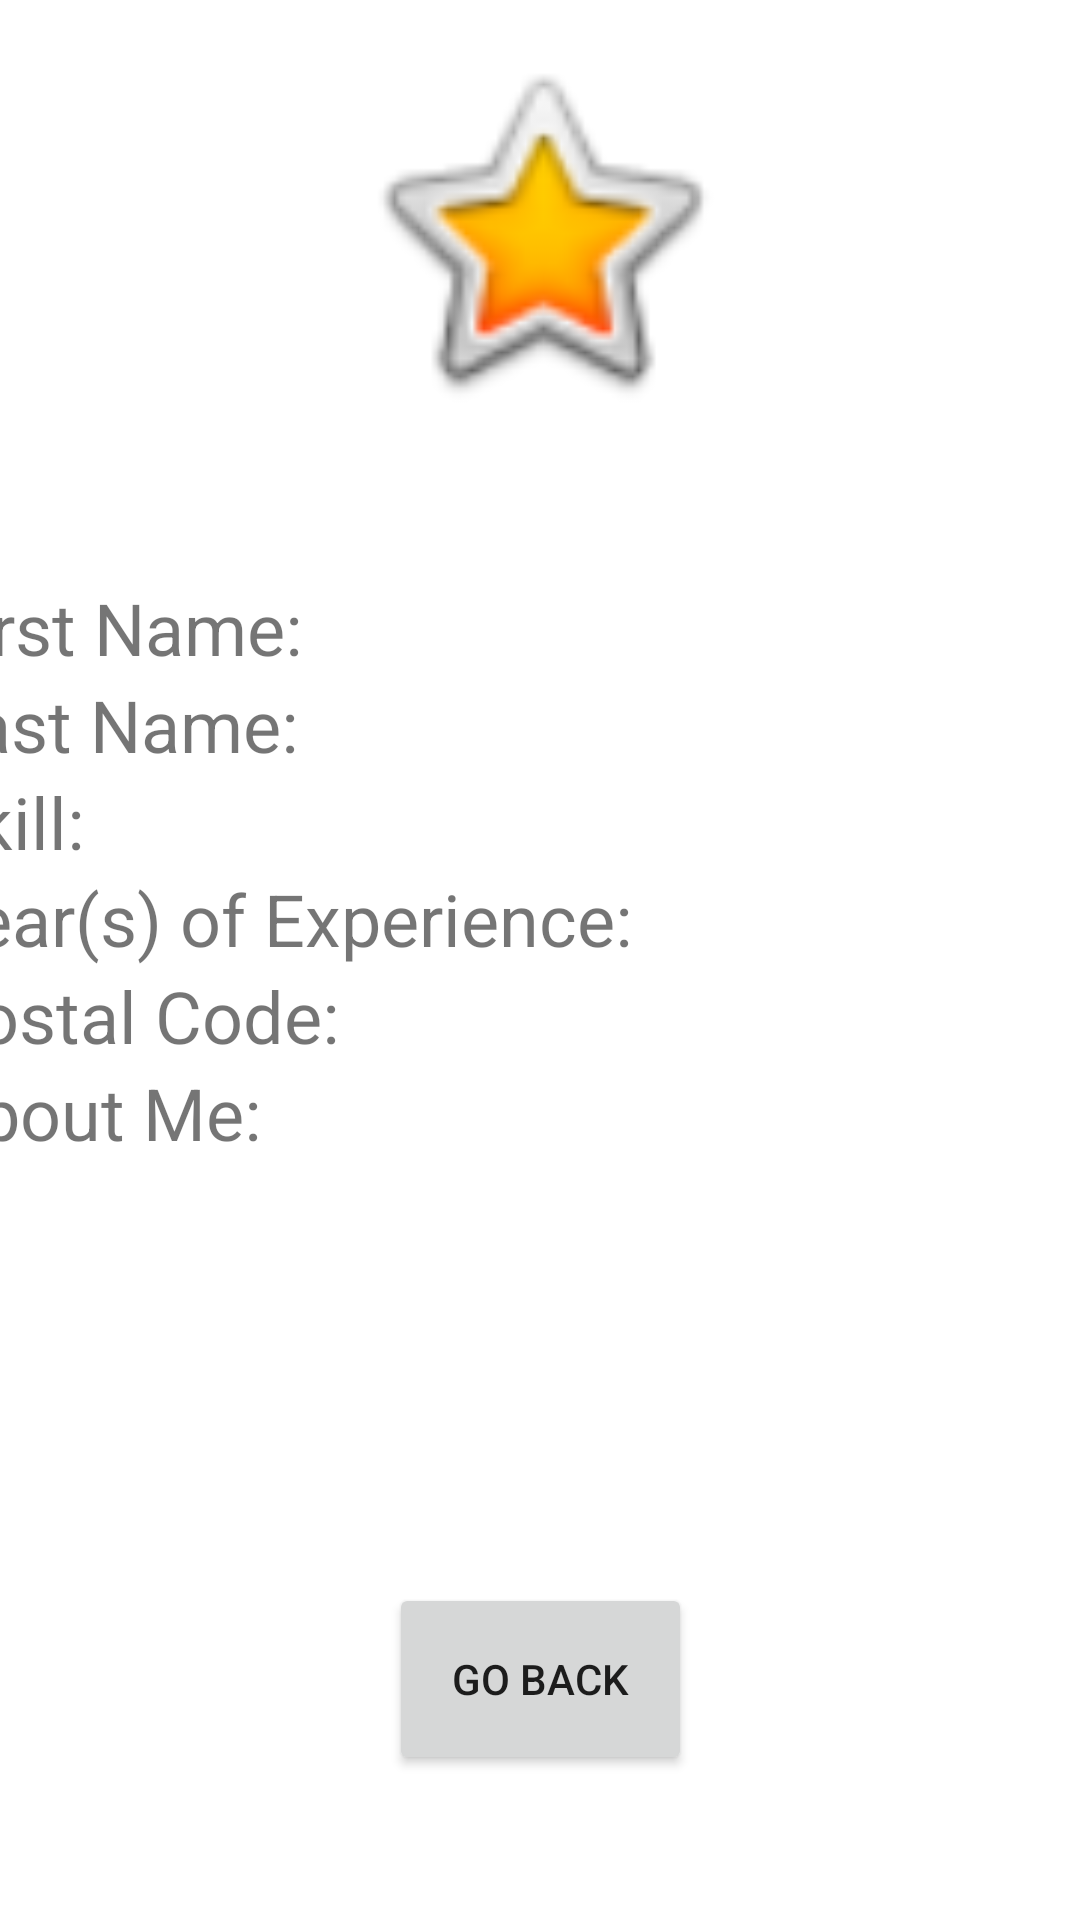

Screen size 1080x1920. Icon name, then its box in pixels as bbox(x1, y1, x2, y2):
star on: bbox(384, 78, 703, 389)
